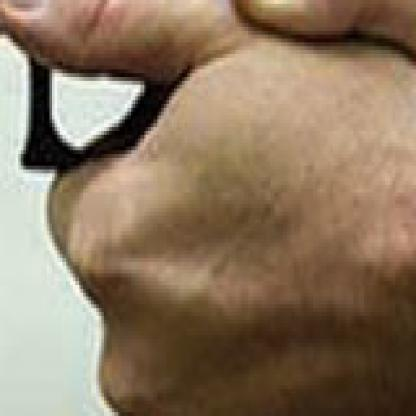gun: (0, 0, 414, 340)
